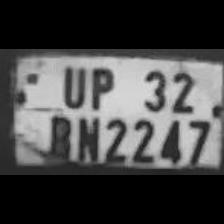2: (166, 65, 198, 112), (100, 114, 128, 164), (127, 115, 155, 163)
3: (137, 64, 167, 112)
4: (154, 115, 182, 165)
7: (182, 114, 212, 164)
N: (72, 112, 100, 162)
P: (84, 62, 118, 110)
U: (56, 61, 89, 108)
